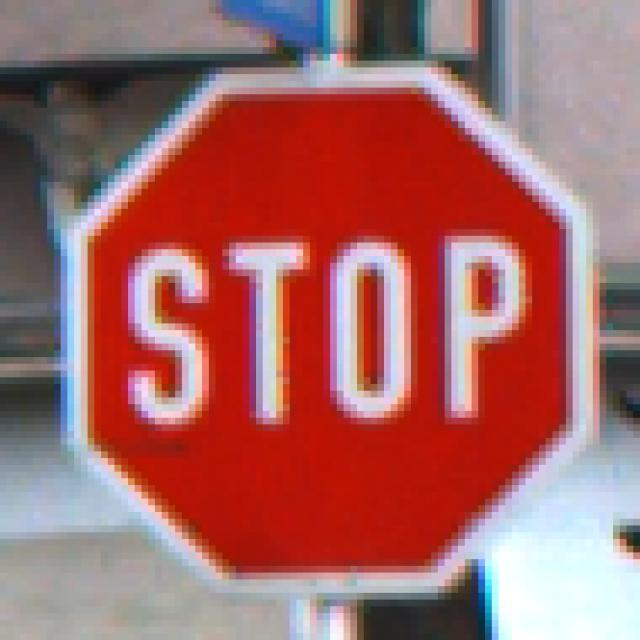STOP: (55, 62, 580, 587)
